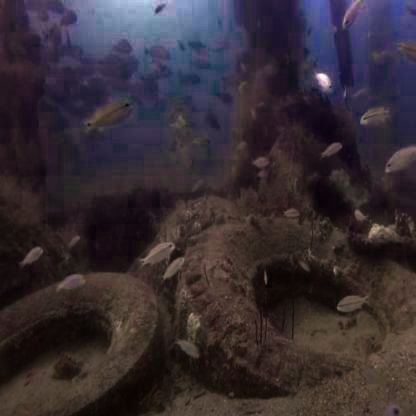tire: (182, 207, 416, 416), (8, 272, 158, 408)
